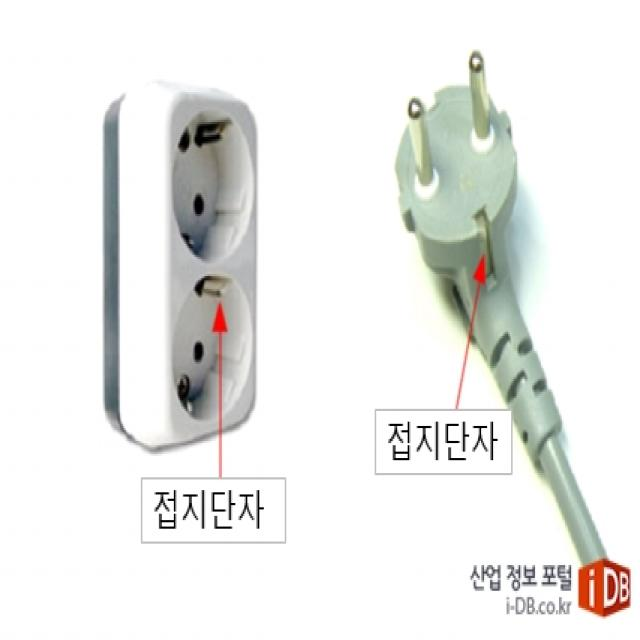typeb: (93, 46, 288, 484)
